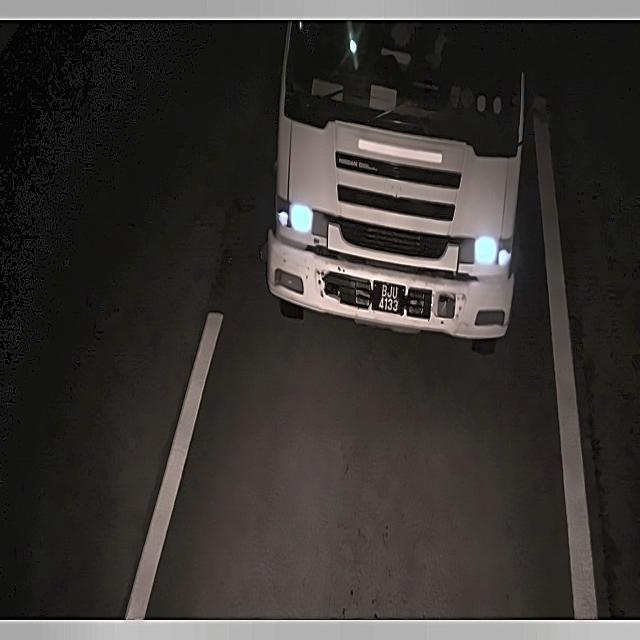car: (368, 268, 410, 326)
